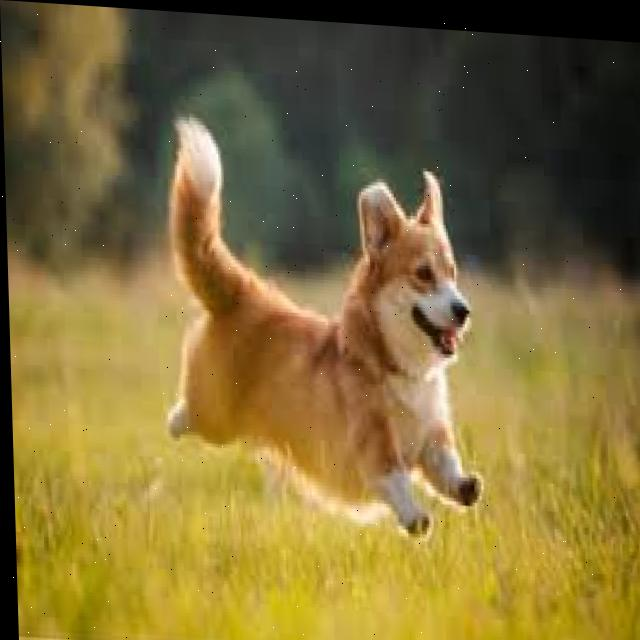CORGI: (157, 95, 489, 538)
